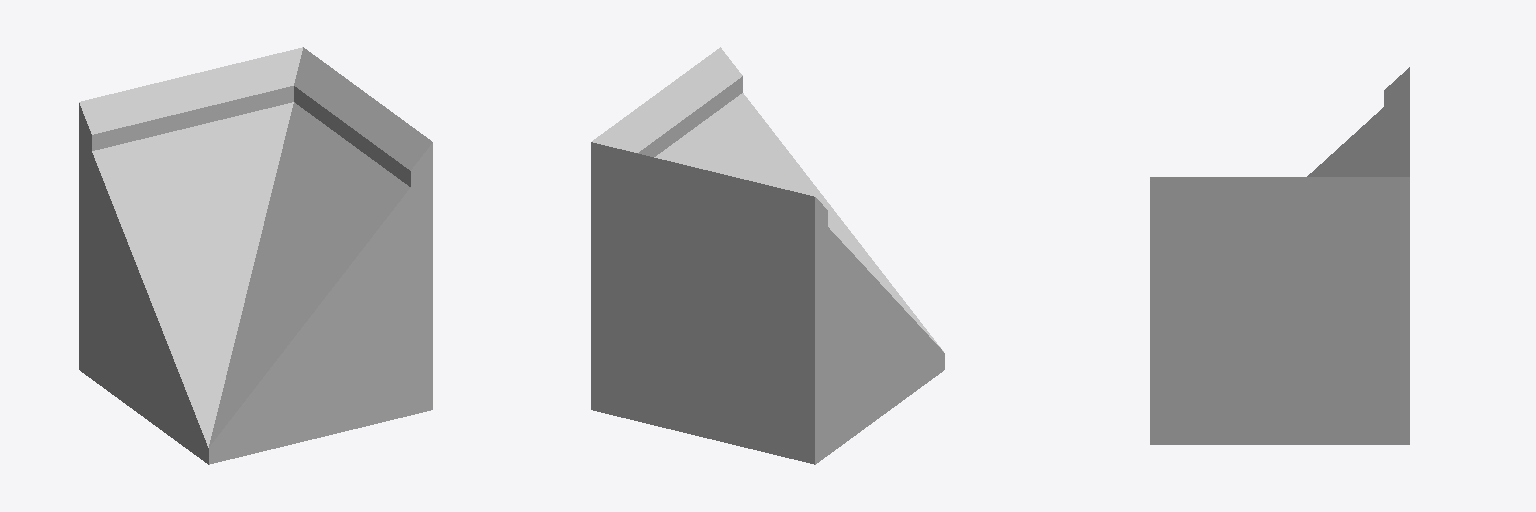
The model's file is roofHighCornerInner.obj.
3 renders of one model, left to right at view 1: azimuth 30°, elevation 25°; view 2: azimuth 150°, elevation 25°; view 3: azimuth 270°, elevation 25°, orthographic.
Parts seen in each view (by area): view 1: roofHighCornerInner; view 2: roofHighCornerInner; view 3: roofHighCornerInner.
Boxes of the visible parts, <box> form: roofHighCornerInner: <box>79,47,432,464</box>; roofHighCornerInner: <box>591,47,944,464</box>; roofHighCornerInner: <box>1150,67,1409,444</box>.
Bounding box in the file's own units: 1 × 1.14 × 1.